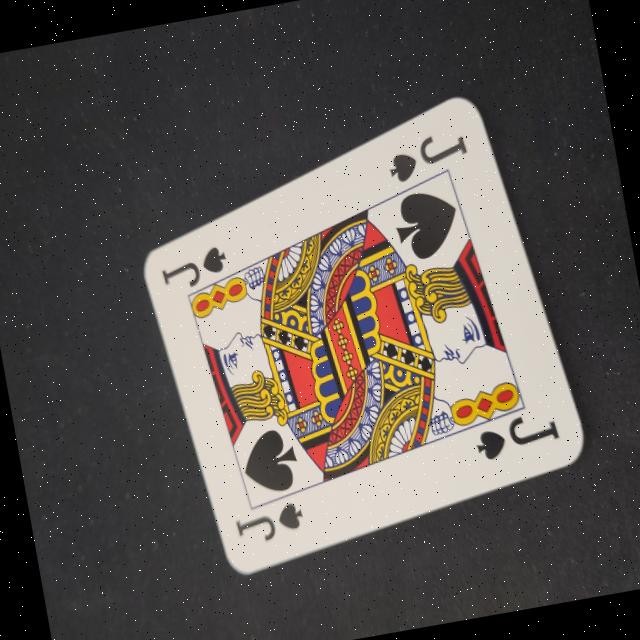Js: (375, 117, 482, 192), (468, 400, 565, 466), (227, 491, 311, 554), (152, 237, 238, 298)
